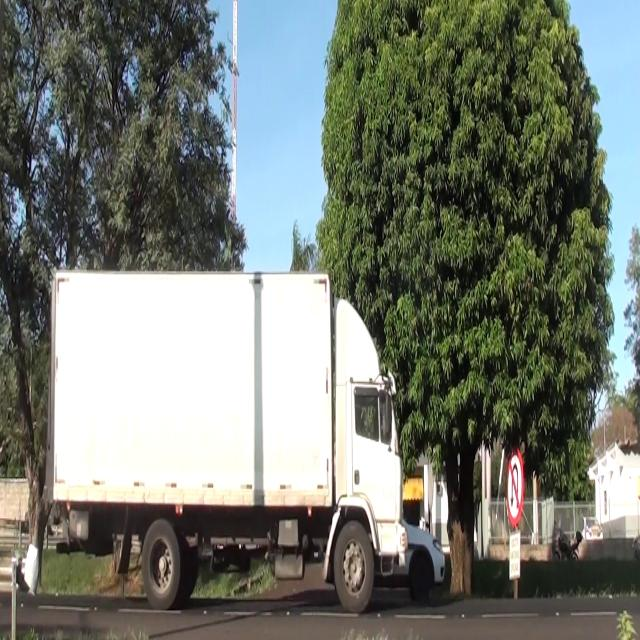-axle: (334, 522, 376, 608), (142, 520, 181, 605)
